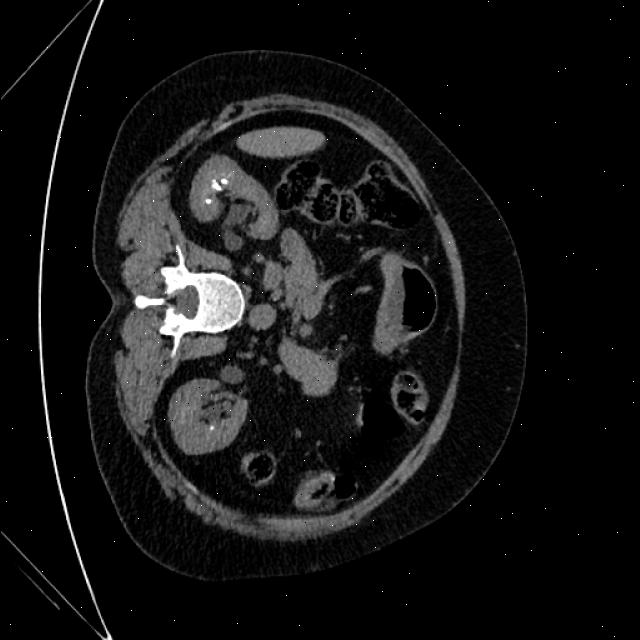kidneystone: (211, 179, 222, 189), (219, 178, 228, 186), (204, 425, 214, 429), (204, 199, 211, 204)
